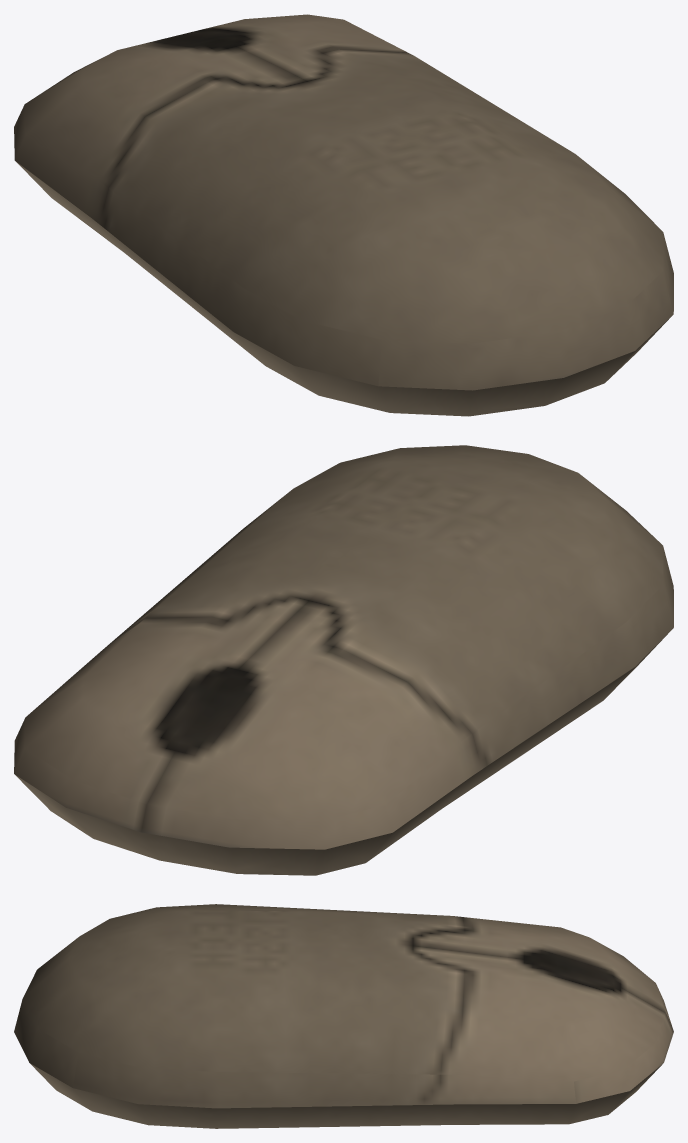
File: pc_mouse_mp_1.obj
The picture shows the model from 3 angles, top to bottom: view 1: azimuth 30°, elevation 25°; view 2: azimuth 150°, elevation 25°; view 3: azimuth 270°, elevation 25°; orthographic projection. The views are drawn at different scales.
Visible parts, largest first — view 1: pc_mouse_mp_1; view 2: pc_mouse_mp_1; view 3: pc_mouse_mp_1.
Boxes of the visible parts, <box> form: pc_mouse_mp_1: <box>14,14,673,416</box>; pc_mouse_mp_1: <box>14,445,673,875</box>; pc_mouse_mp_1: <box>14,904,673,1128</box>.
Bounding box in the file's own units: 0.0809 × 0.0315 × 0.1475.
